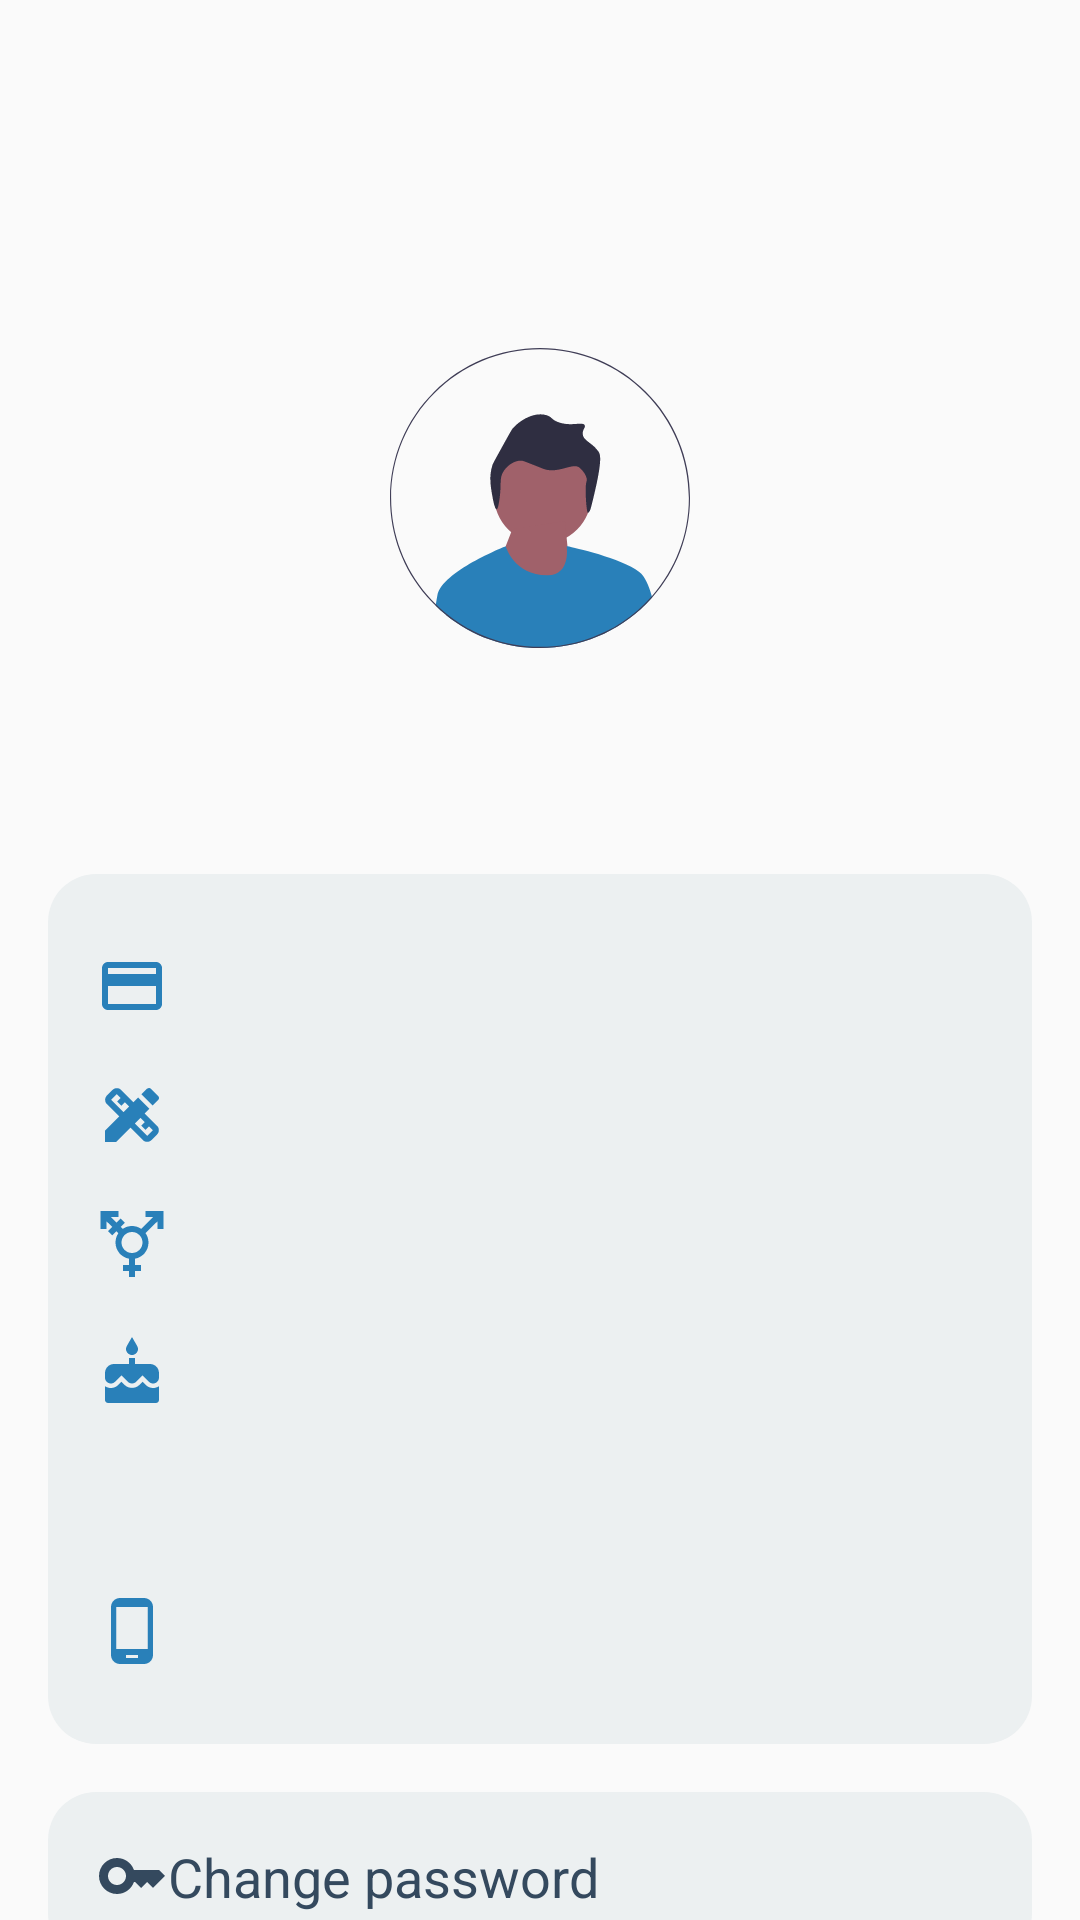

Icons on this 1080 x 1920 Android screen, each with its box as (x1, y1, x2, y2):
Avatar: (390, 348, 690, 648)
